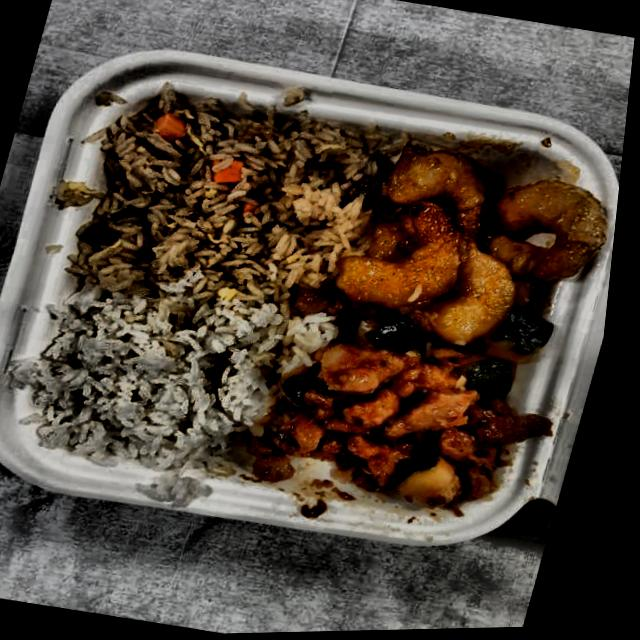Food: (70, 85, 387, 332), (318, 129, 629, 371), (255, 308, 576, 530), (16, 277, 291, 491)
